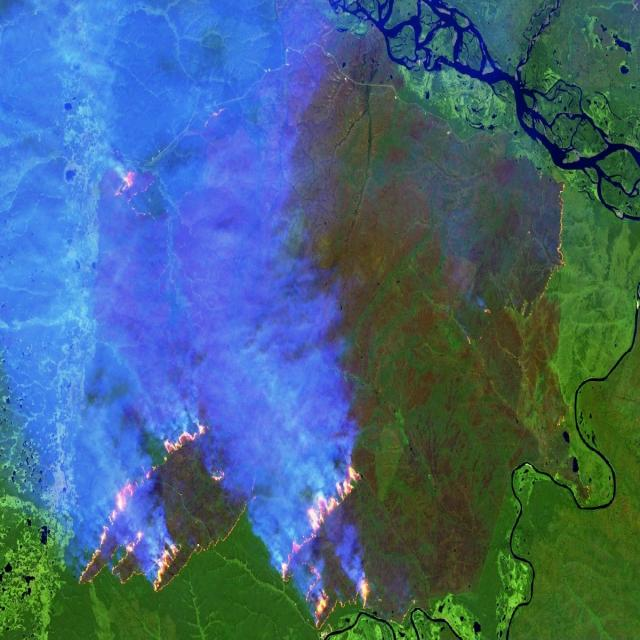fire: (71, 162, 255, 597), (278, 457, 372, 632)
